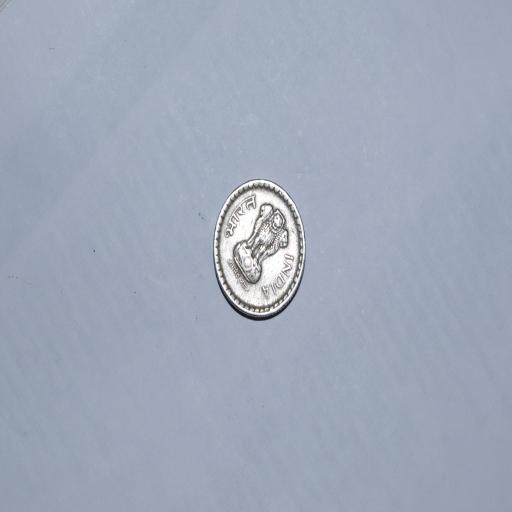rupee5: (210, 178, 308, 323)
